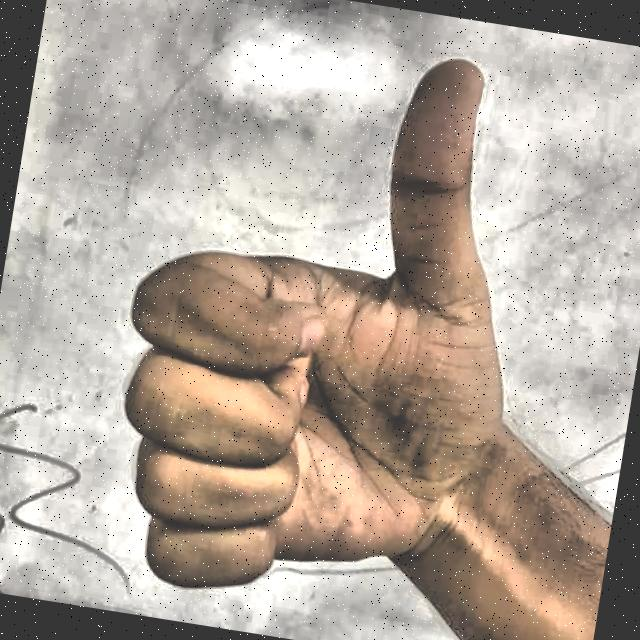Do: (18, 0, 577, 640)
